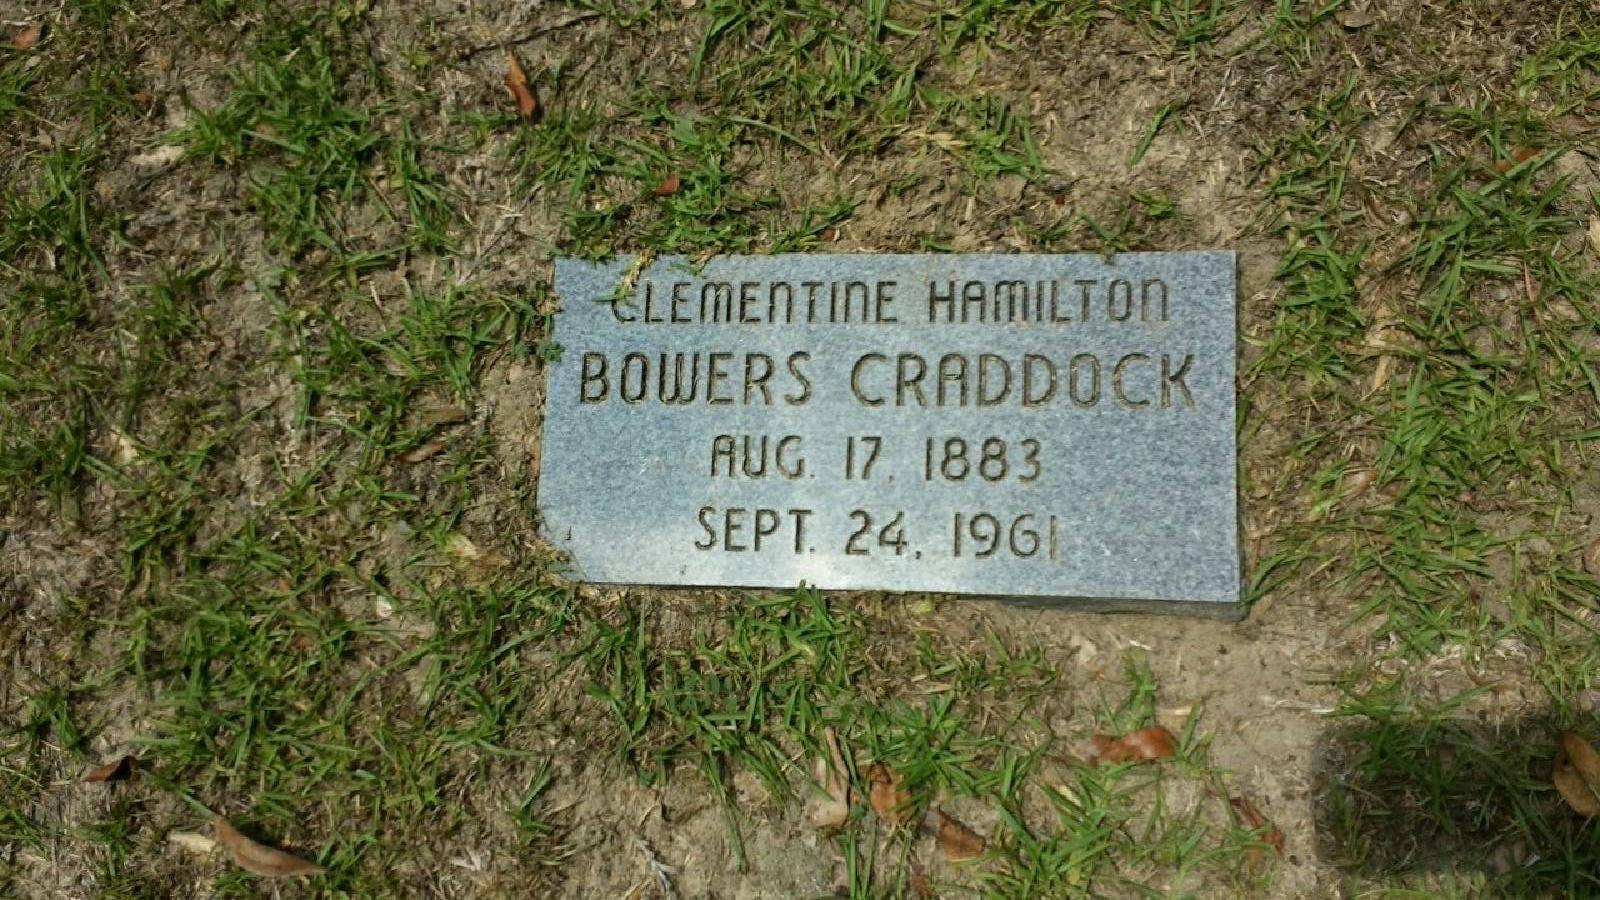flat: (529, 210, 1267, 618)
